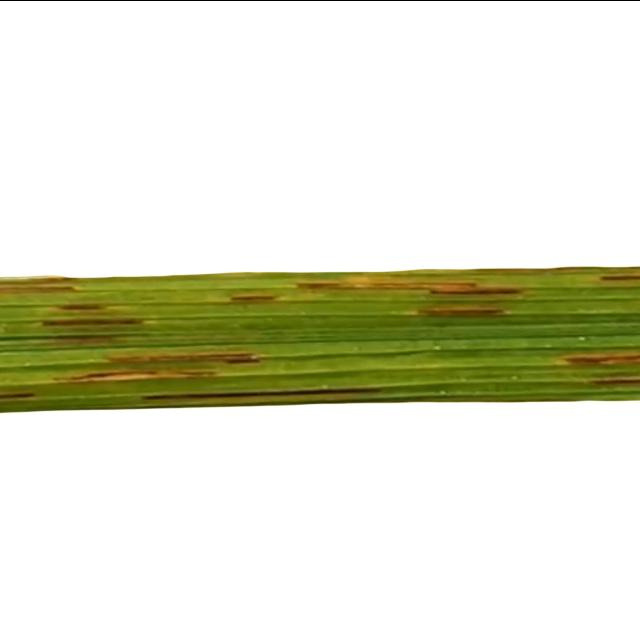Narrow brown: (0, 202, 640, 472)
